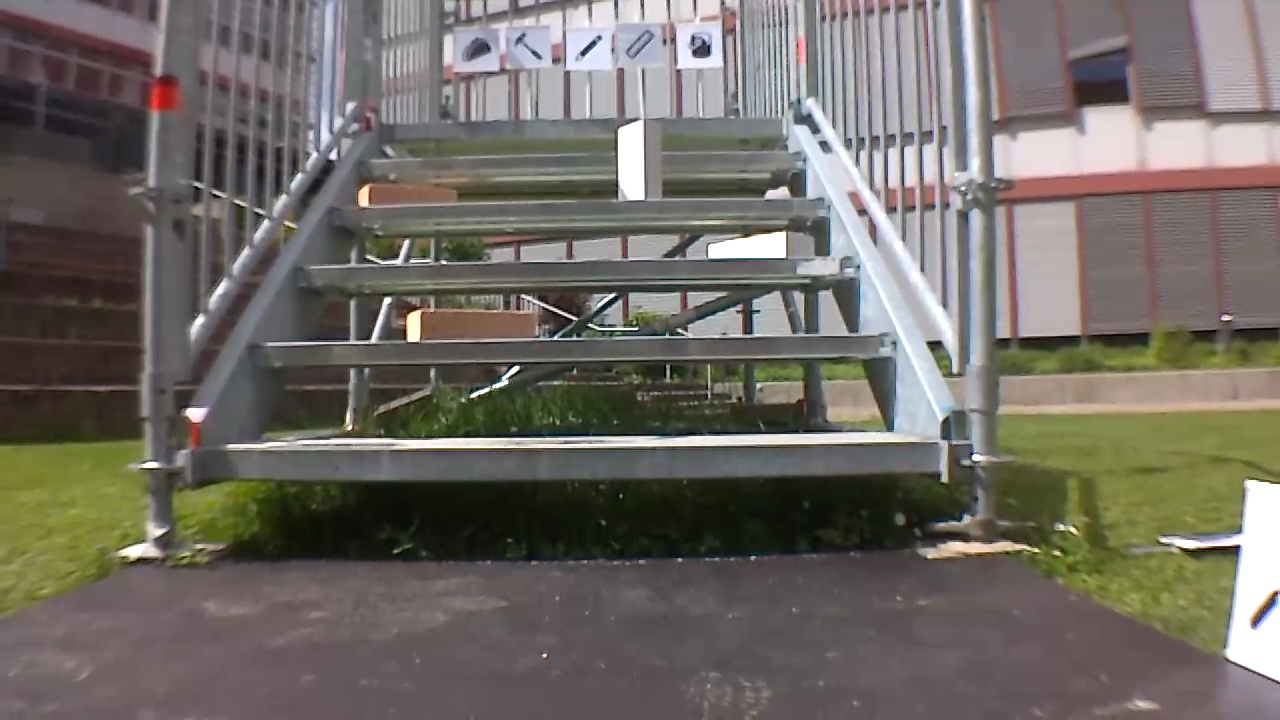brick: (406, 309, 534, 339), (617, 119, 663, 199), (709, 232, 812, 260), (357, 183, 454, 205)
bucket: (684, 29, 717, 61)
edge: (193, 442, 938, 479), (251, 334, 896, 362), (296, 256, 859, 283), (329, 197, 834, 220), (361, 151, 803, 171), (378, 118, 784, 136)
hammer: (509, 29, 545, 62)
pencil: (569, 31, 605, 64)
ruler: (620, 26, 657, 60)
stairs: (132, 1, 1024, 559)
steps: (183, 114, 952, 485)
taco: (458, 34, 494, 63)
